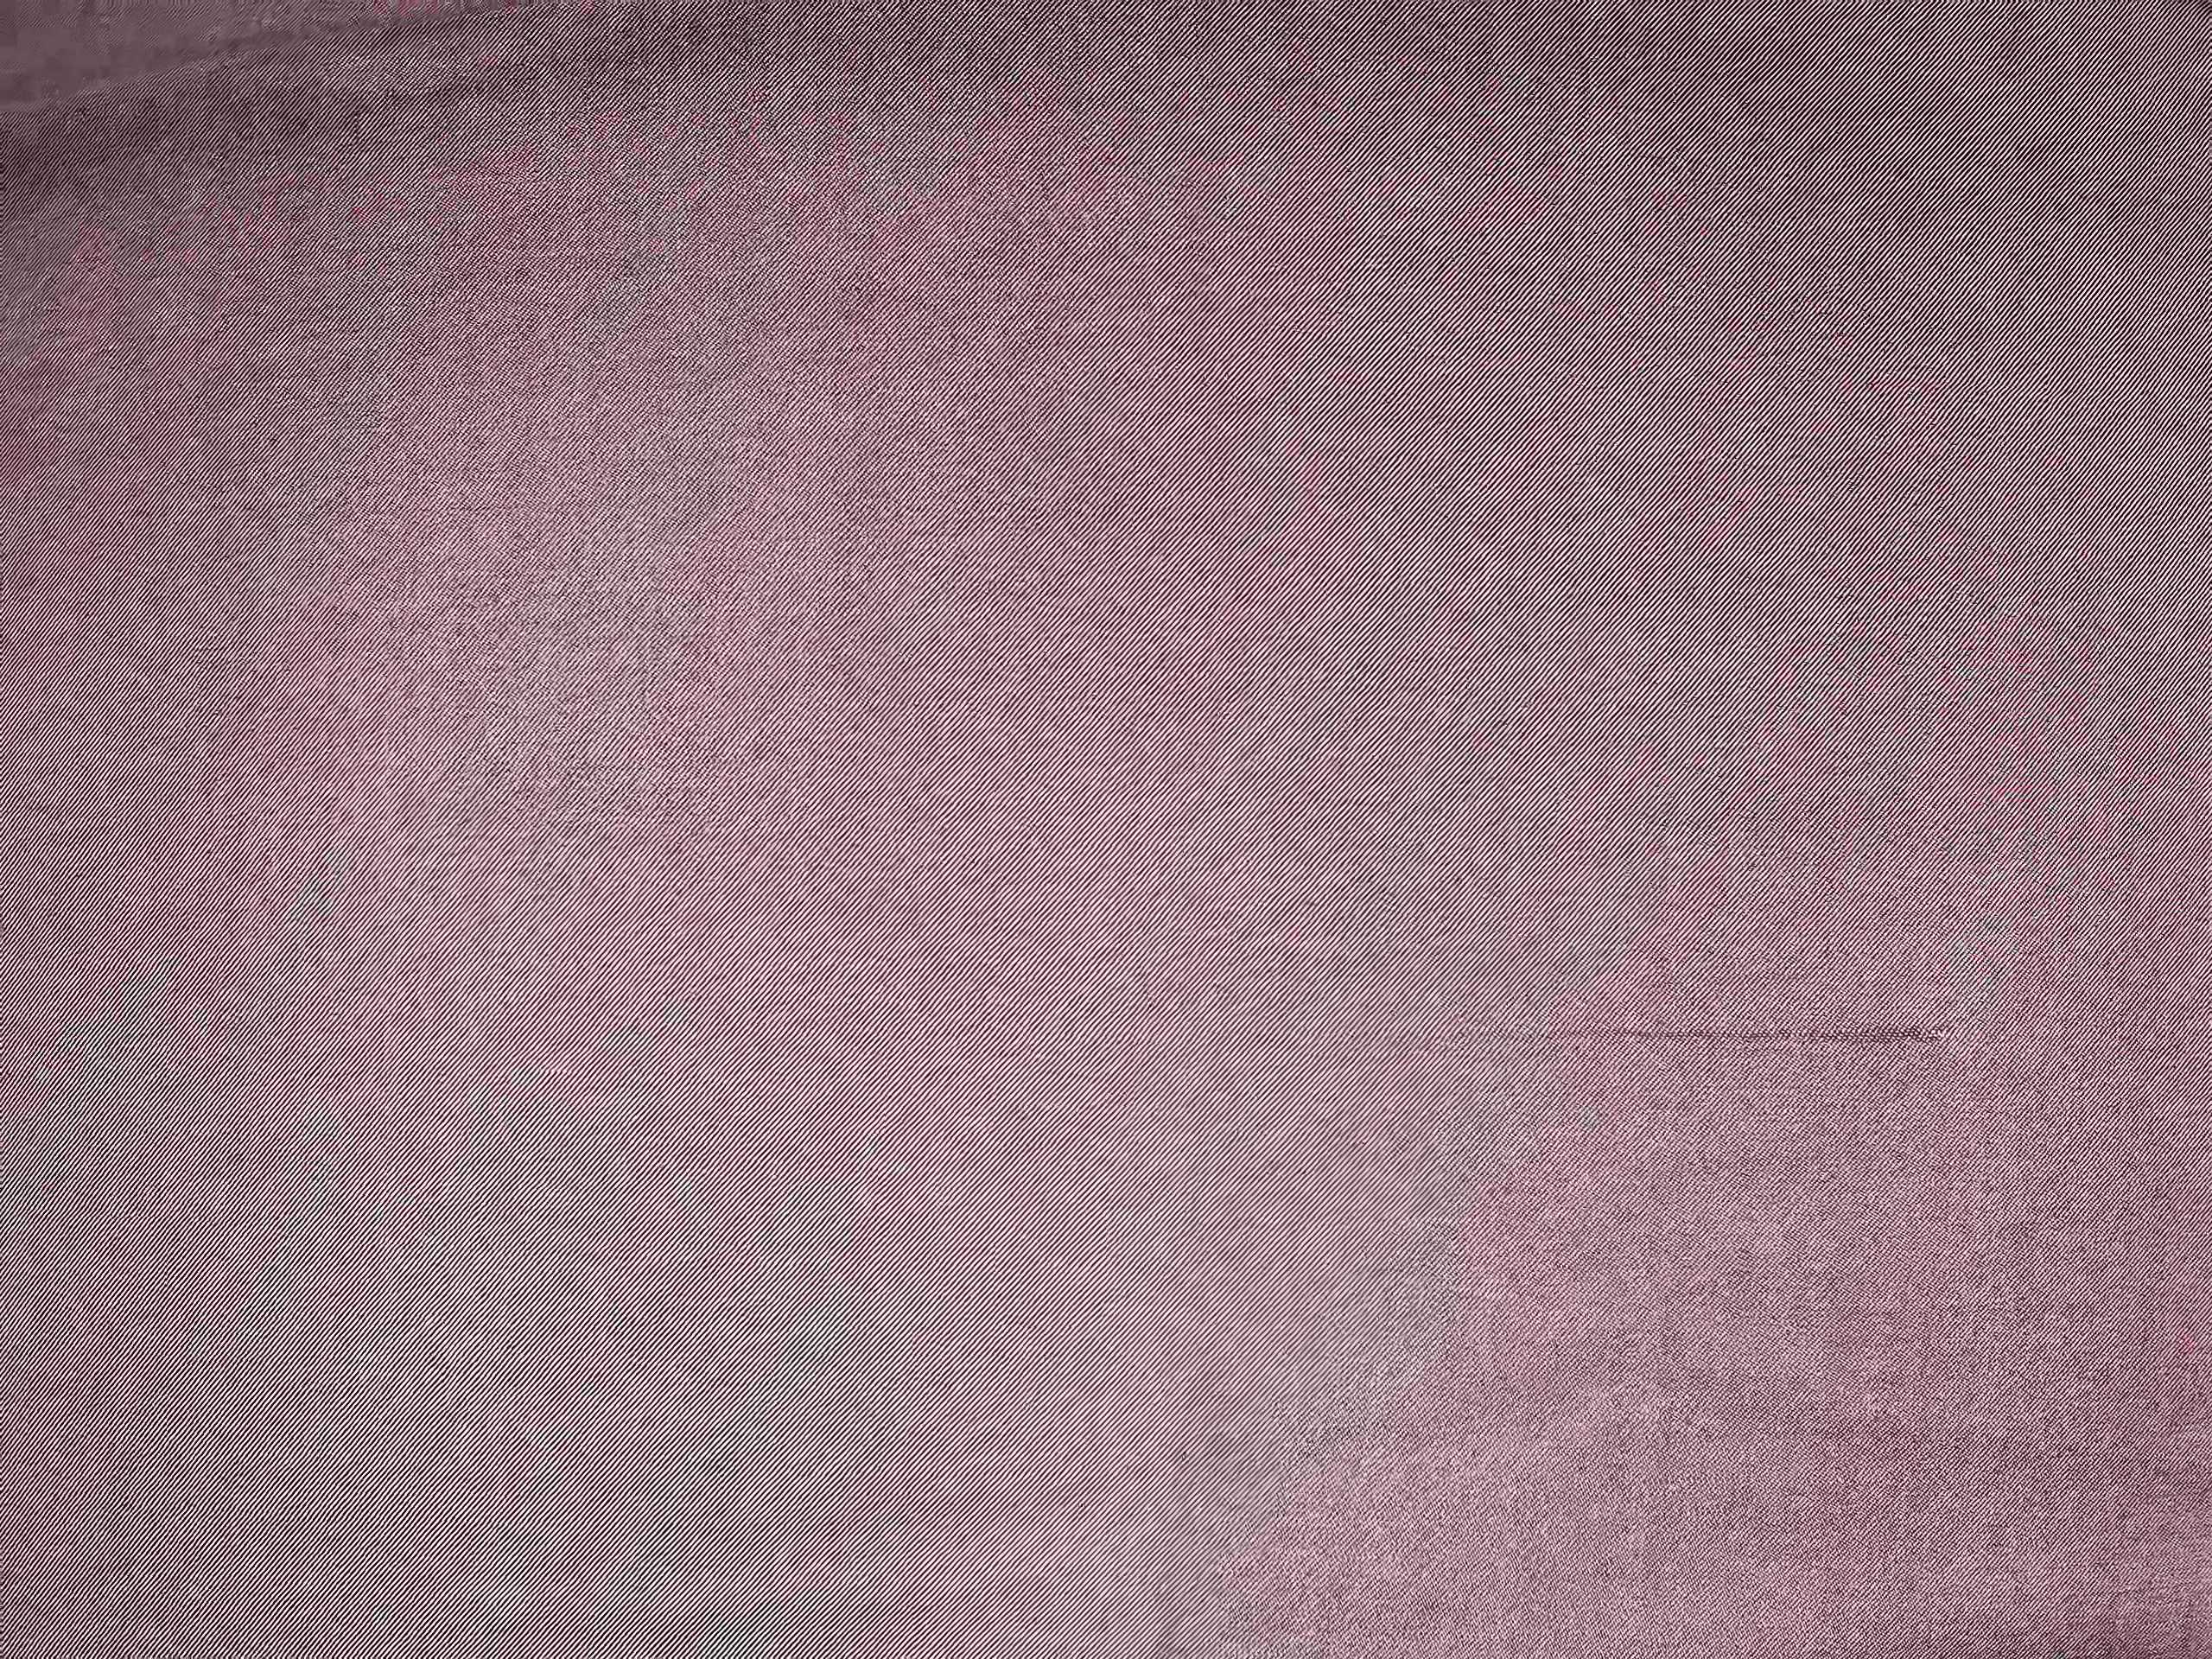thin-spinning: (1073, 1011, 1973, 1065)
